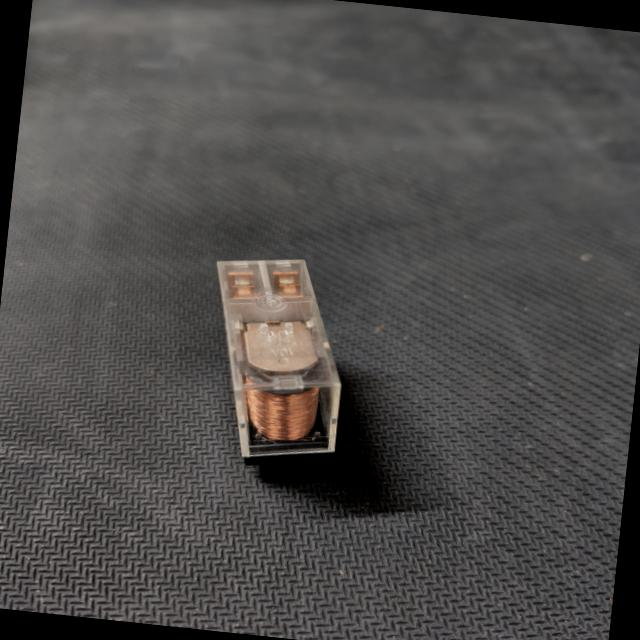relay: (182, 242, 388, 498)
